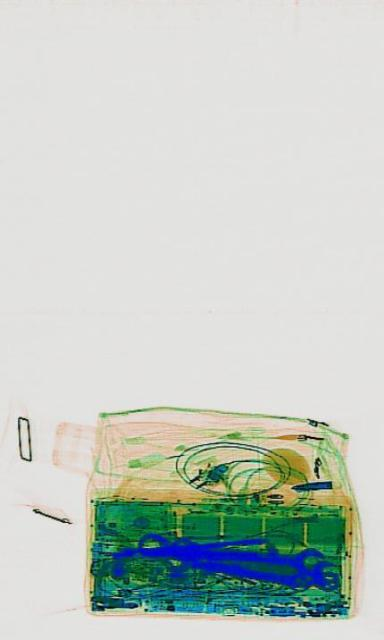Wrench: (137, 524, 322, 580)
